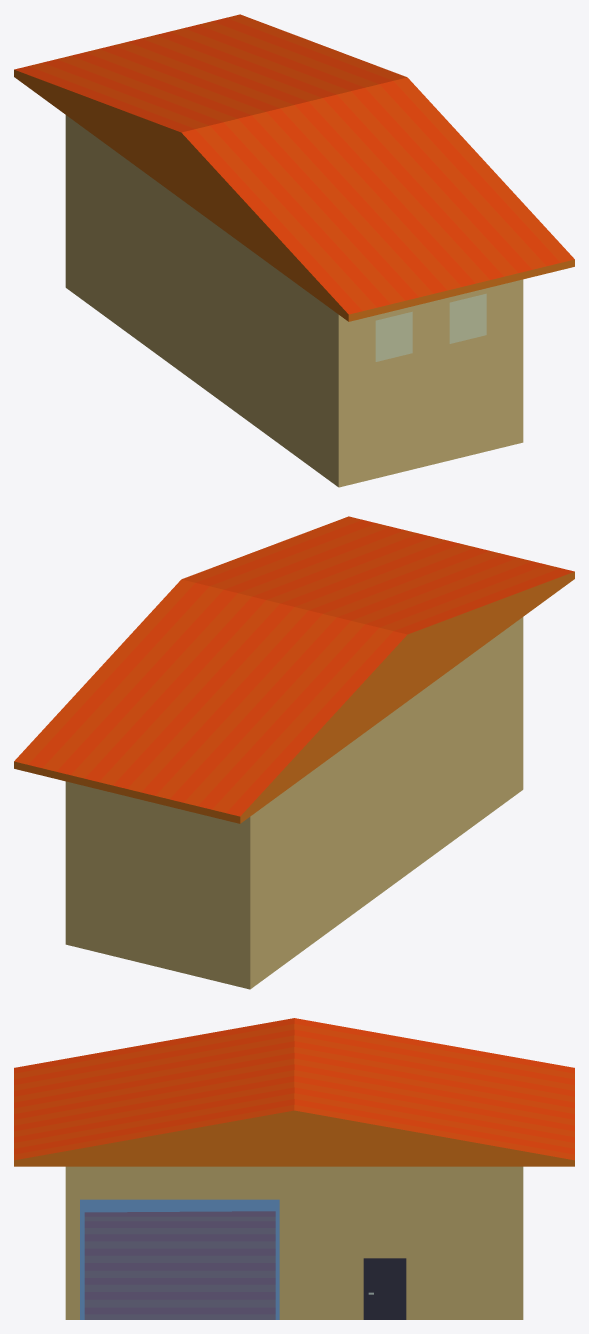
Rendered from plain house.fbx.
3 renders of one model, top to bottom at view 1: azimuth 30°, elevation 25°; view 2: azimuth 150°, elevation 25°; view 3: azimuth 270°, elevation 25°, orthographic. The views are drawn at different scales.
Visible parts, largest first — view 1: Cube.030; view 2: Cube.030; view 3: Cube.030.
Boxes of the visible parts, <box> form: Cube.030: <box>14,14,574,487</box>; Cube.030: <box>14,516,574,989</box>; Cube.030: <box>14,1018,574,1319</box>.
Size of the model in its own units: 1791 by 1968 by 4591.
